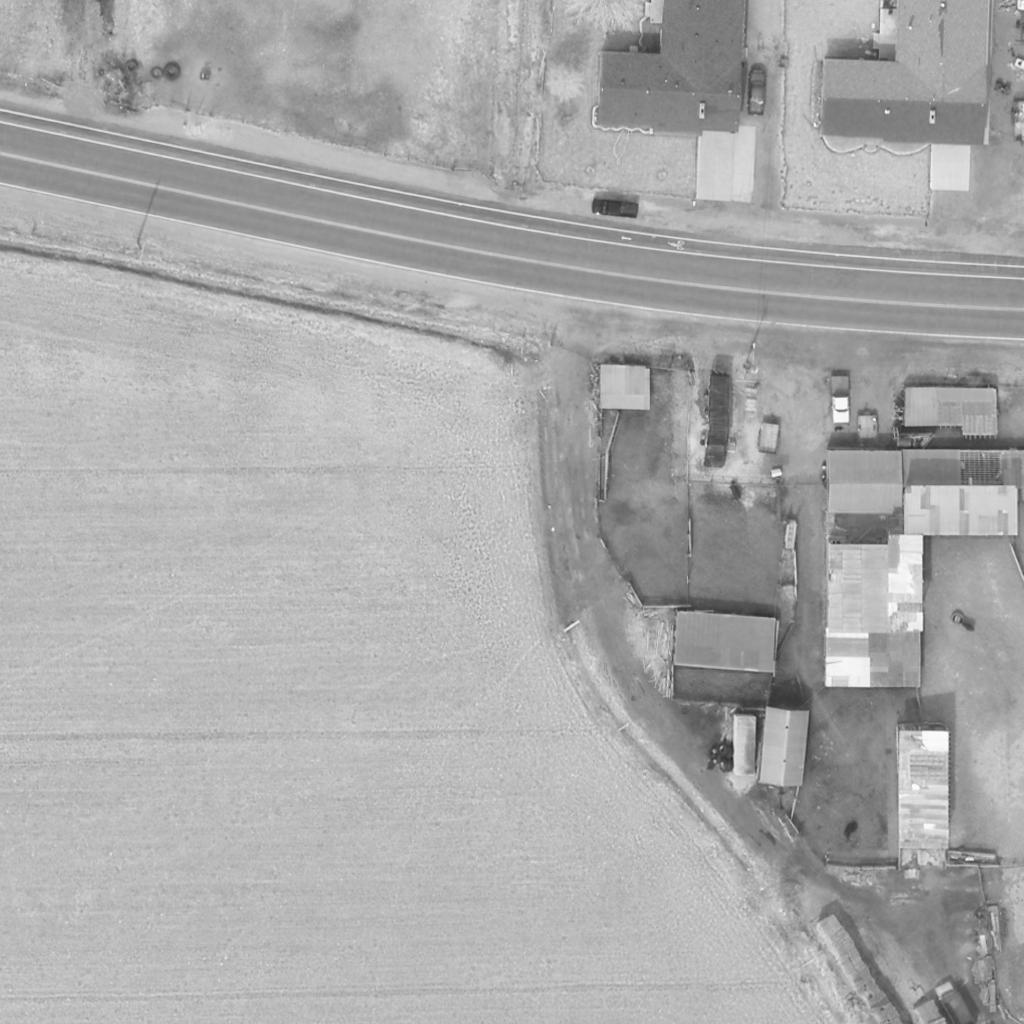vehicle: (588, 197, 642, 221), (829, 375, 851, 423), (746, 70, 768, 118)
